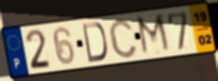2: (24, 28, 52, 71)
6: (51, 25, 77, 67)
7: (165, 9, 189, 52)
C: (107, 17, 139, 60)
D: (81, 21, 109, 64)
M: (134, 12, 174, 58)
